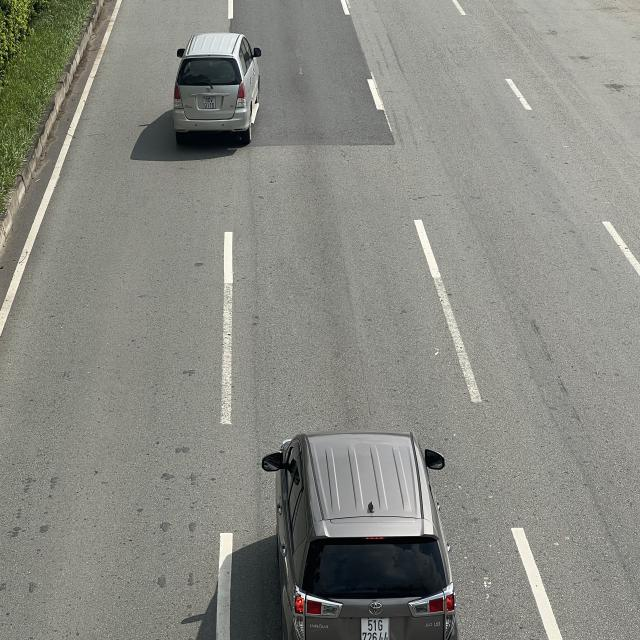car: (261, 428, 458, 640), (170, 31, 264, 146)
